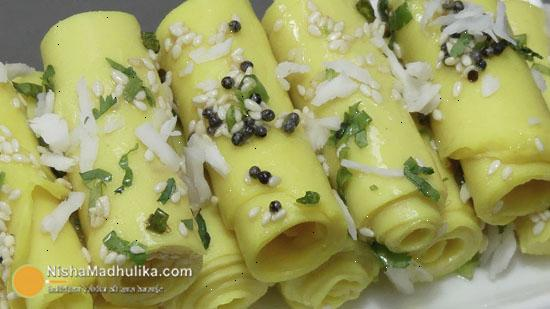khandvi: (5, 3, 550, 259)
